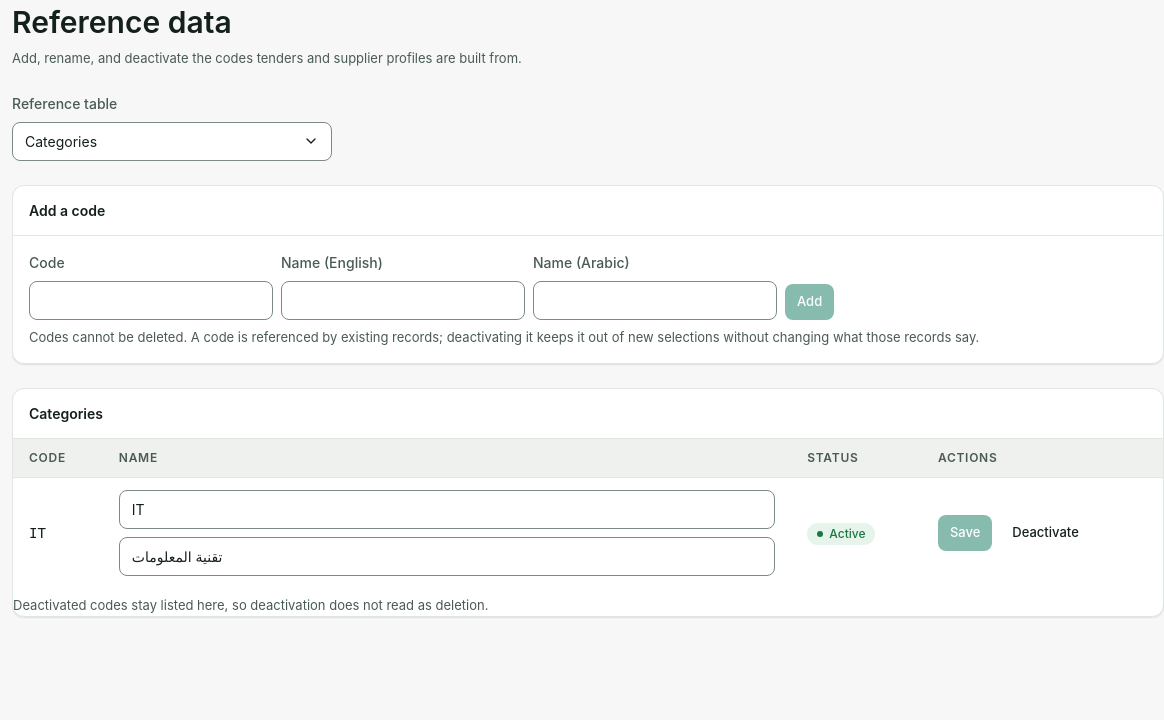
Test case: ReferenceDataPage › names the duplicate-code rule rather than reporting a generic failure
In the field labelled "Code": (151,300) [29,280,273,320], type "IT"
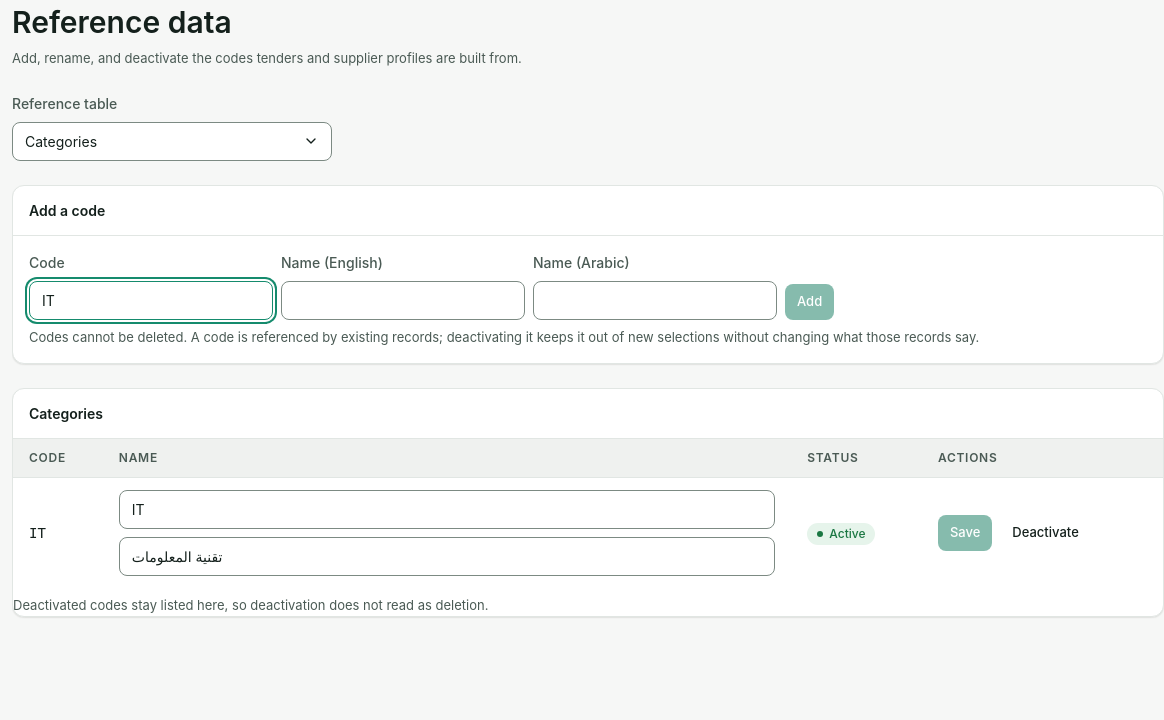
In the field labelled "Name (English)": (403,300) [281,280,525,320], type "IT again"
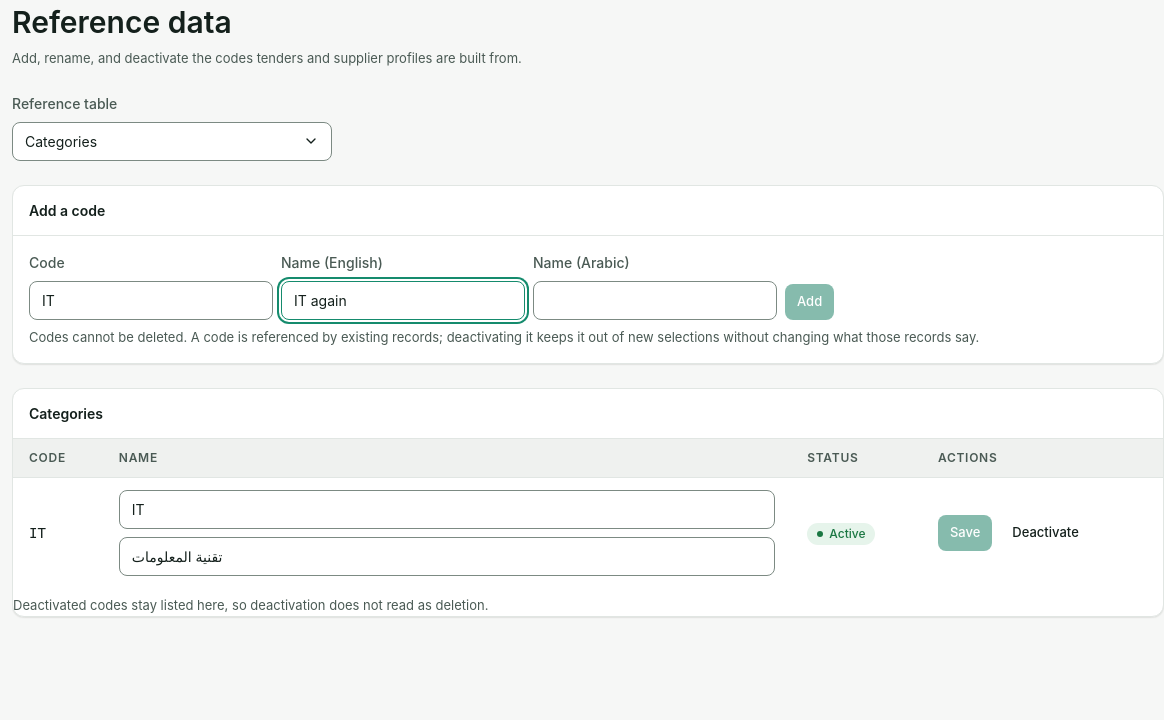
In the field labelled "Name (Arabic)": (655,300) [533,280,777,320], type "تقنية"
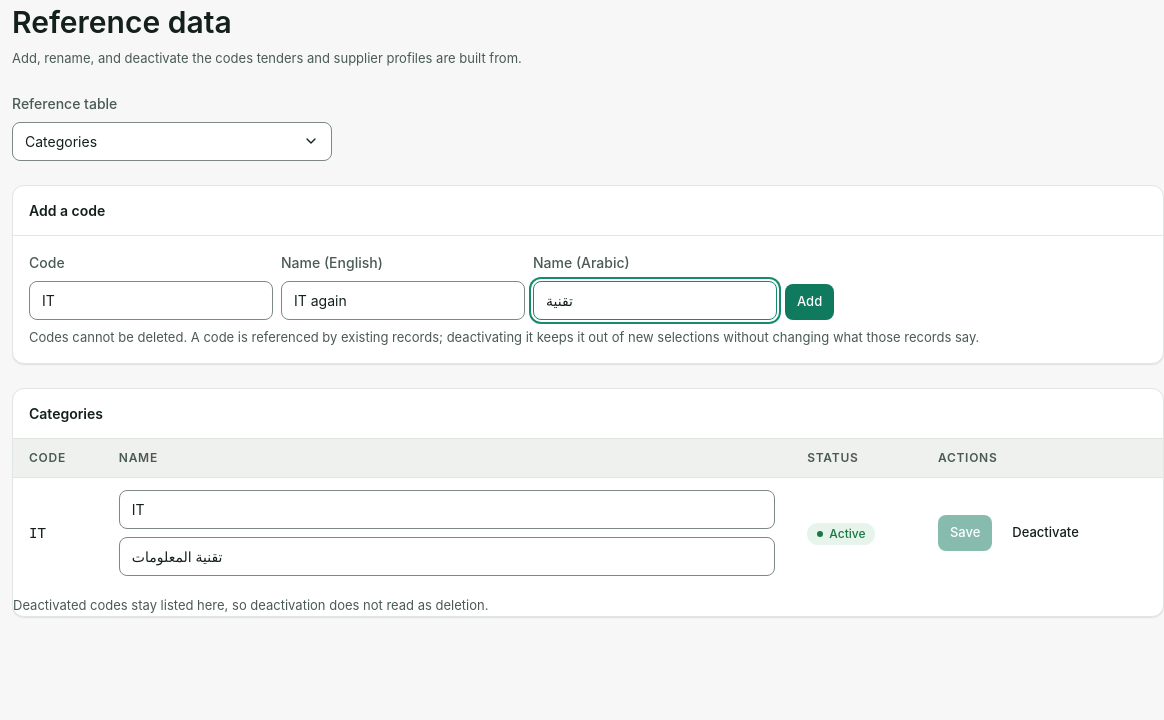
Click the button "Add": (810,302) [785,284,834,320]
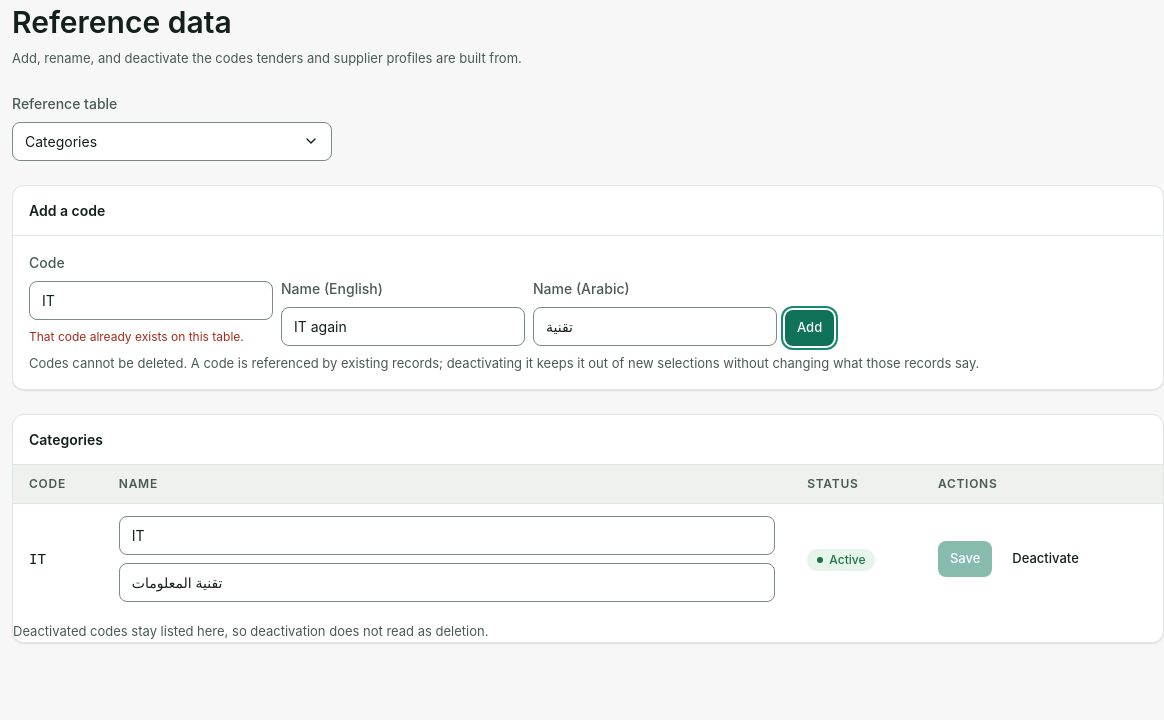
Now the text "That code already exists on this table." is shown, box [29,328,273,346]
